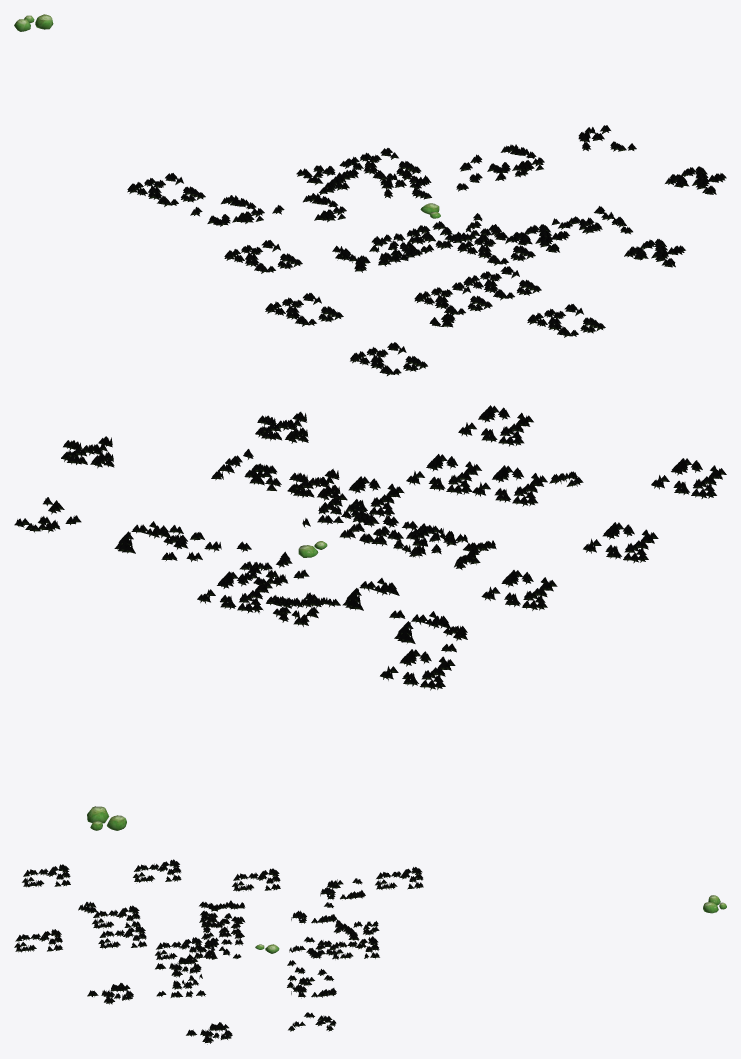
The picture shows the model from 3 angles, top to bottom: view 1: azimuth 30°, elevation 25°; view 2: azimuth 150°, elevation 25°; view 3: azimuth 270°, elevation 25°; orthographic projection. The views are drawn at different scales.
Parts seen in each view (by area): view 1: sm01bb_obj003, sm01bb_obj004; view 2: sm01bb_obj003, sm01bb_obj004; view 3: sm01bb_obj003, sm01bb_obj004.
Part boxes in pixels (box(x1,y1,x2,y2)): sm01bb_obj003: box(127, 125, 726, 375); sm01bb_obj004: box(14, 14, 440, 218); sm01bb_obj003: box(14, 405, 726, 690); sm01bb_obj004: box(87, 541, 327, 830); sm01bb_obj003: box(14, 859, 423, 1044); sm01bb_obj004: box(255, 895, 726, 953).
Bounding box in the file's own units: 97.82 × 2.46 × 162.
2 materials, 2 textured.
